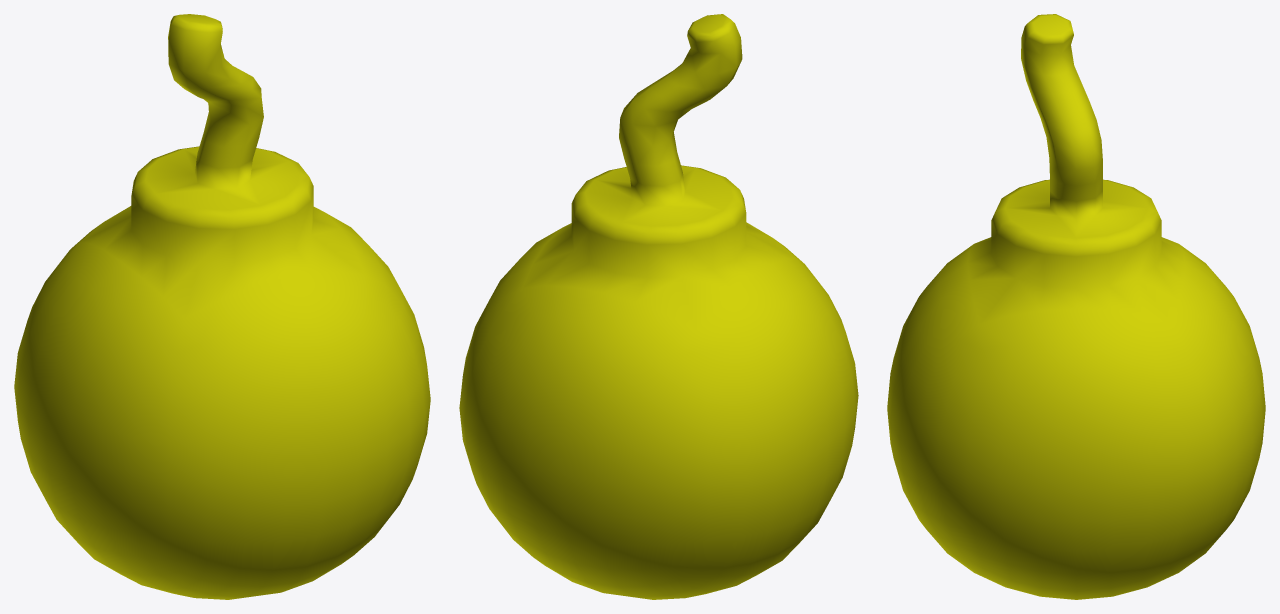
File: Projectile.fbx
3 views of the same model, side by side, from view 1: azimuth 30°, elevation 25°; view 2: azimuth 150°, elevation 25°; view 3: azimuth 270°, elevation 25° (orthographic). The views are drawn at different scales.
Parts seen in each view (by area): view 1: Projectile; view 2: Projectile; view 3: Projectile.
Part boxes in pixels (bbox=[...]): Projectile: bbox=[14, 14, 430, 599]; Projectile: bbox=[459, 14, 858, 599]; Projectile: bbox=[887, 14, 1265, 599].
Bounding box in the file's own units: 97.4 × 153 × 97.4.
